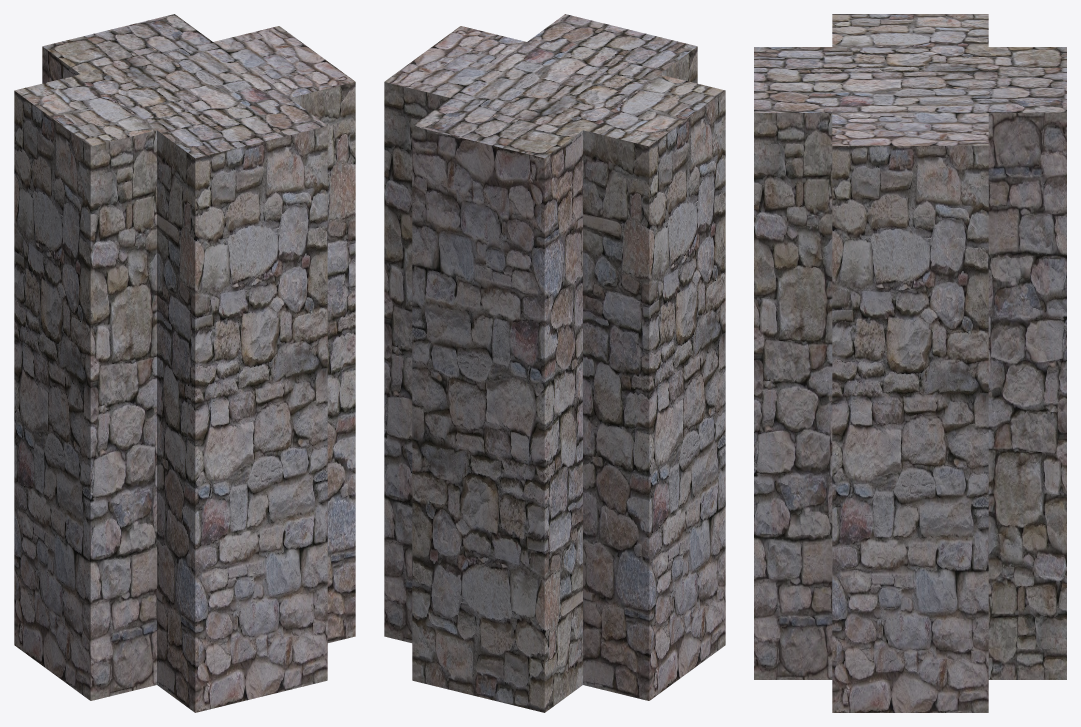
Rendered from hwall_cross.obj.
3 renders of one model, left to right at view 1: azimuth 30°, elevation 25°; view 2: azimuth 150°, elevation 25°; view 3: azimuth 270°, elevation 25°, orthographic. The views are drawn at different scales.
Bounding box in the file's own units: 1 × 2 × 1.
